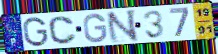3: (142, 10, 166, 39)
7: (167, 7, 192, 39)
C: (47, 15, 78, 45)
G: (21, 16, 49, 48), (82, 13, 109, 44)
N: (104, 8, 139, 45)
